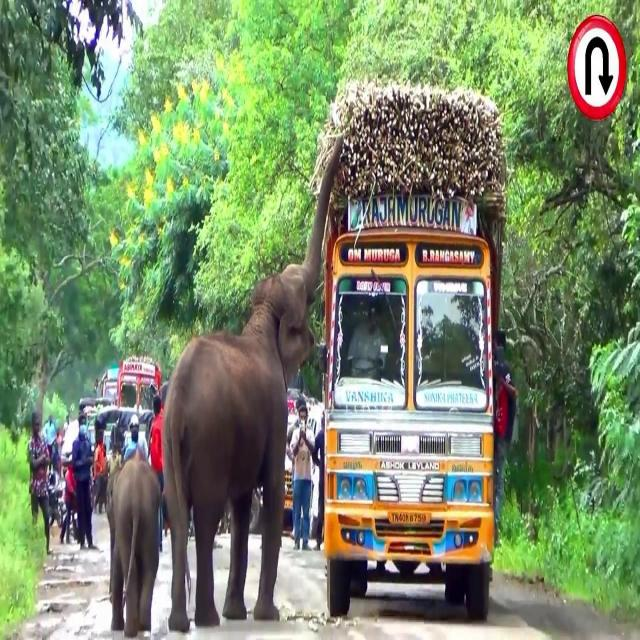Elephant: (161, 133, 344, 633), (110, 452, 162, 638)
